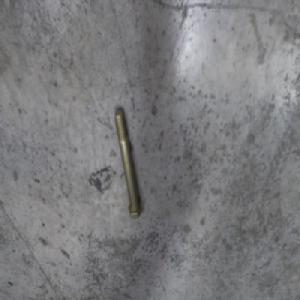Bolt: (114, 108, 142, 219)
